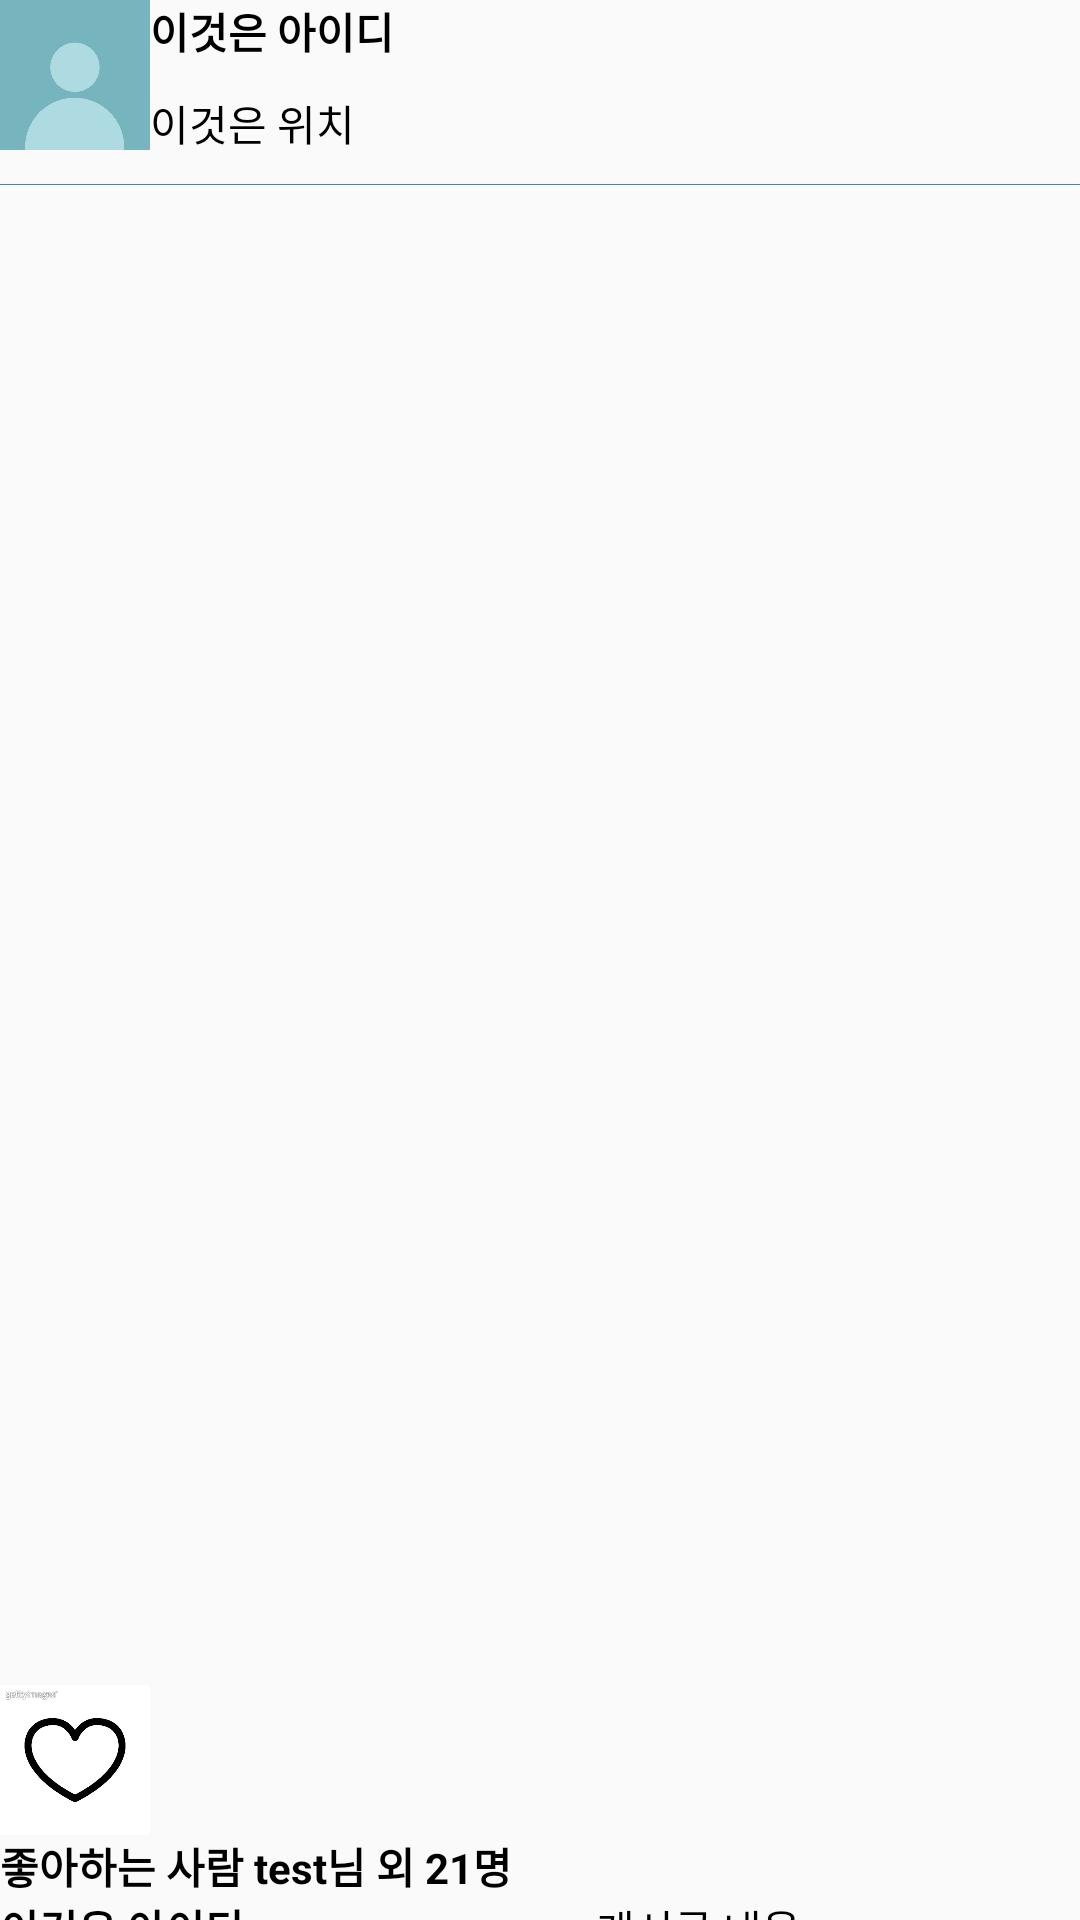

Point at icon controls on the screen. Image size 1080 x 1920, points as (x=x, y=y).
heart: (x=66, y=1746)
profile: (x=75, y=75)
